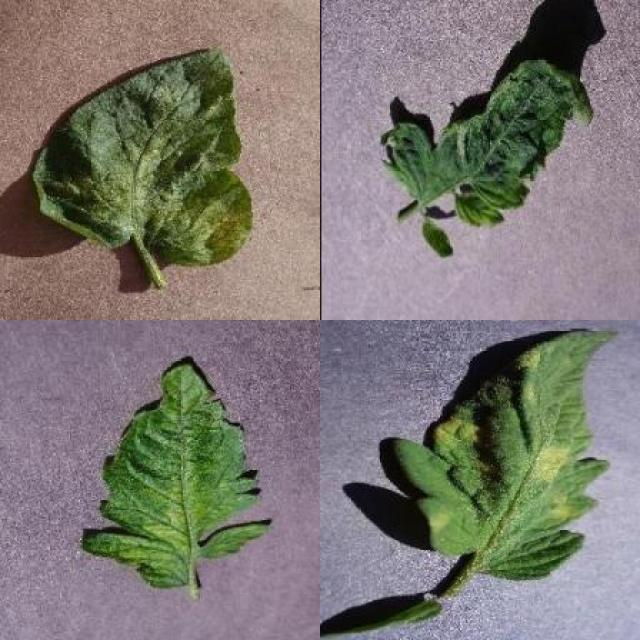Leaf Mold: (394, 327, 616, 583)
Mosaic Virus: (378, 54, 596, 260), (79, 359, 274, 587)
Spider Mites: (34, 45, 252, 268)
